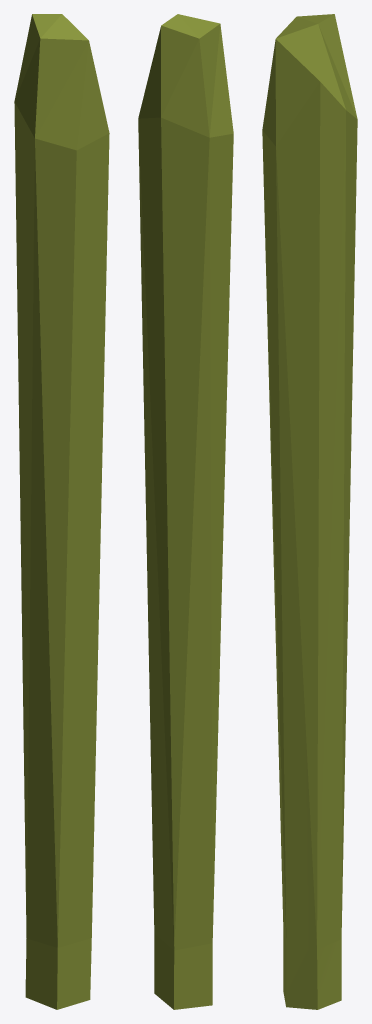
Rendered from ea_swamp_grass_01a_pre__24__lev1.glb.
3 views of the same model, side by side, from view 1: azimuth 90°, elevation 25°; view 2: azimuth 150°, elevation 25°; view 3: azimuth 330°, elevation 25° (orthographic).
Parts seen in each view (by area): view 1: ea_swamp_grass_01a_pre__24__lev1; view 2: ea_swamp_grass_01a_pre__24__lev1; view 3: ea_swamp_grass_01a_pre__24__lev1.
Boxes of the visible parts, bbox=[...] form: ea_swamp_grass_01a_pre__24__lev1: bbox=[14, 14, 109, 1009]; ea_swamp_grass_01a_pre__24__lev1: bbox=[138, 14, 233, 1009]; ea_swamp_grass_01a_pre__24__lev1: bbox=[262, 14, 357, 1009].
Size of the model in its own units: 0.3644 by 4.31 by 0.3794.
Materials: 1 (1 with a texture image).
